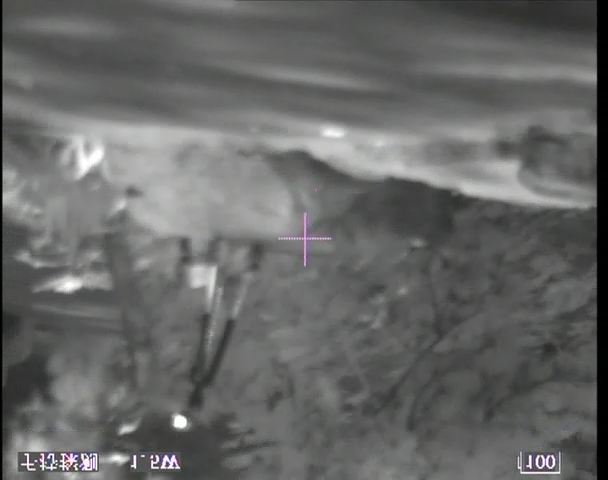my: (171, 413, 187, 430)
